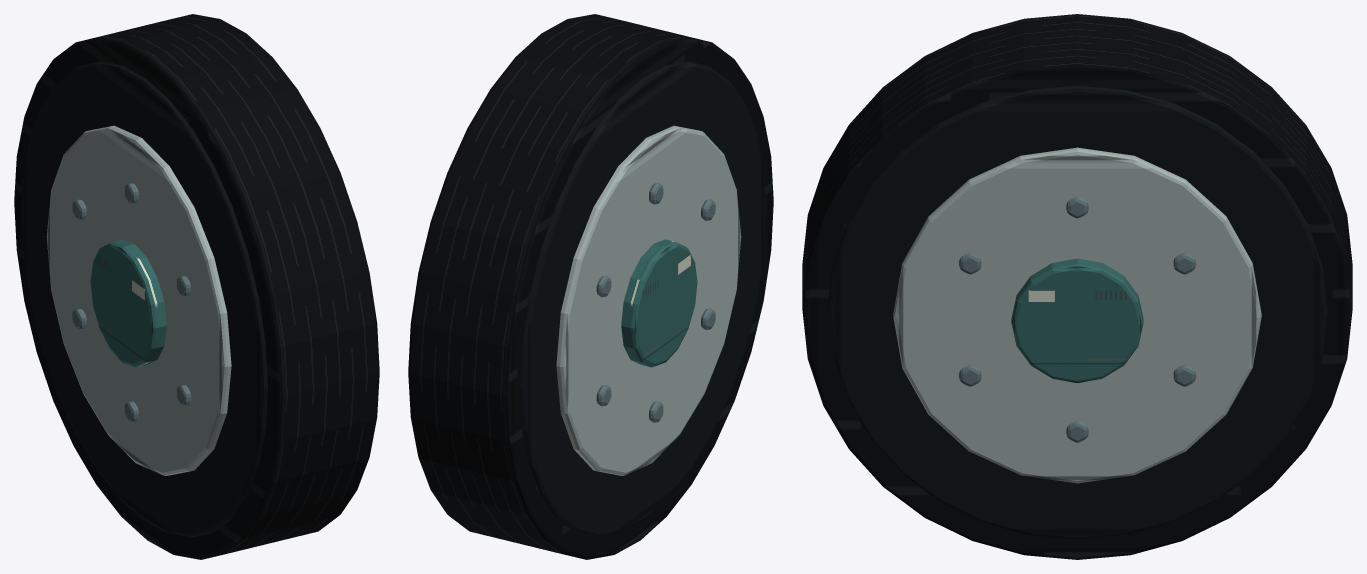
Rendered from SM_DeliveryRobot_Wheel.fbx.
3 renders of one model, left to right at view 1: azimuth 30°, elevation 25°; view 2: azimuth 150°, elevation 25°; view 3: azimuth 270°, elevation 25°, orthographic. The views are drawn at different scales.
Visible parts, largest first — view 1: SM_DeliveryRobot_Wheel; view 2: SM_DeliveryRobot_Wheel; view 3: SM_DeliveryRobot_Wheel.
Boxes of the visible parts, box(x1,y1,x2,y2) form: SM_DeliveryRobot_Wheel: box(14, 14, 379, 559); SM_DeliveryRobot_Wheel: box(408, 14, 773, 559); SM_DeliveryRobot_Wheel: box(802, 14, 1352, 559).
Size of the model in its own units: 21 by 64 by 64.
